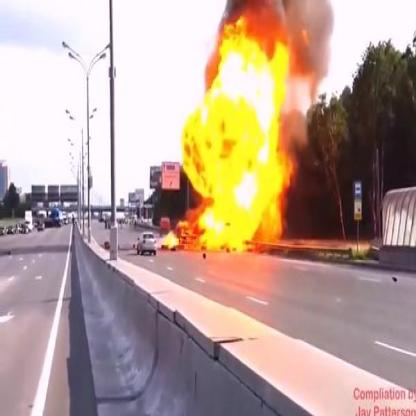fire: (180, 11, 293, 254), (162, 228, 180, 250)
